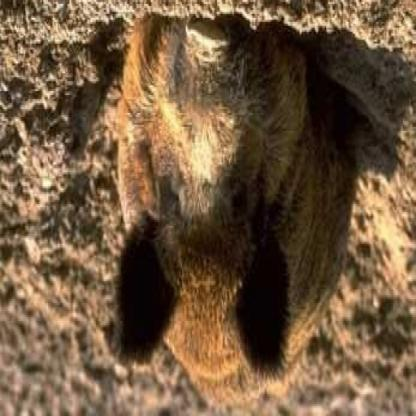boar: (87, 1, 379, 416)
